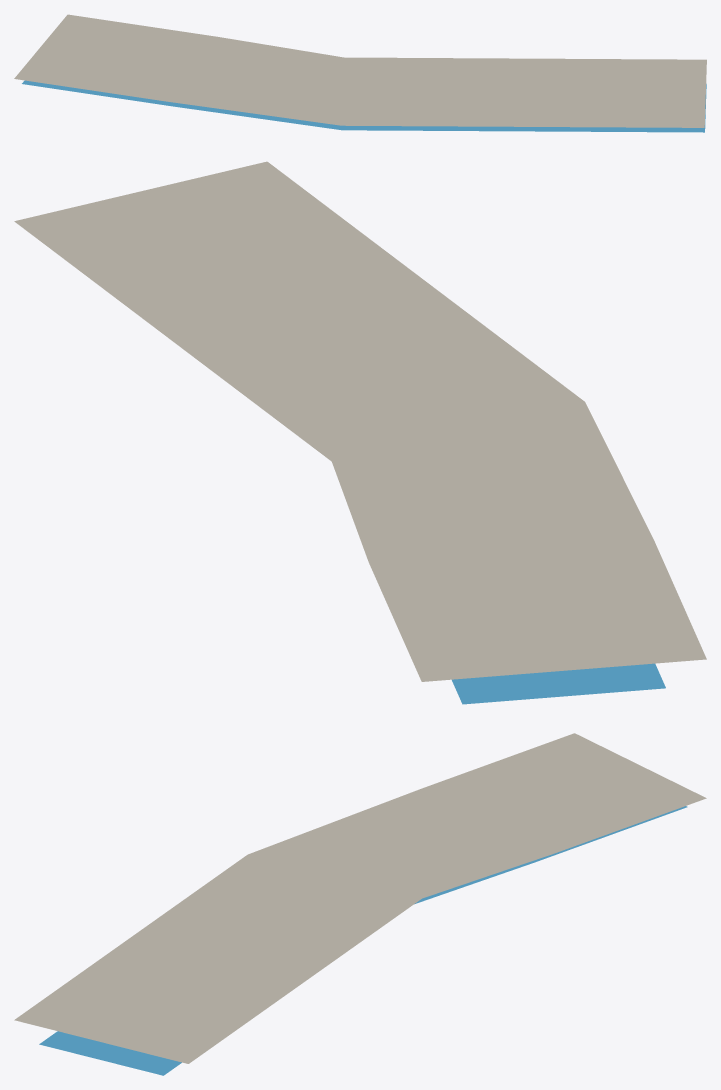
3 views of the same model, one above another, from view 1: azimuth 30°, elevation 25°; view 2: azimuth 150°, elevation 25°; view 3: azimuth 270°, elevation 25° (orthographic). The views are drawn at different scales.
Parts seen in each view (by area): view 1: estructura_terreno, estructura_agua; view 2: estructura_terreno, estructura_agua; view 3: estructura_terreno, estructura_agua.
Boxes of the visible parts, box(x1,y1,x2,y2) form: estructura_terreno: box(14, 14, 706, 127); estructura_agua: box(22, 80, 706, 132); estructura_terreno: box(14, 161, 706, 681); estructura_agua: box(452, 663, 665, 704); estructura_terreno: box(14, 733, 706, 1063); estructura_agua: box(39, 806, 687, 1075).
Bounding box in the file's own units: 16.19 × 0.41 × 14.32.
